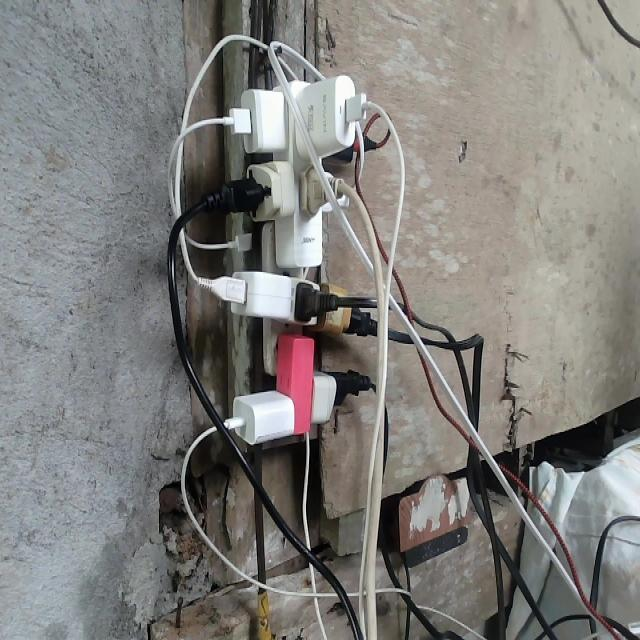-: (208, 69, 373, 440)
